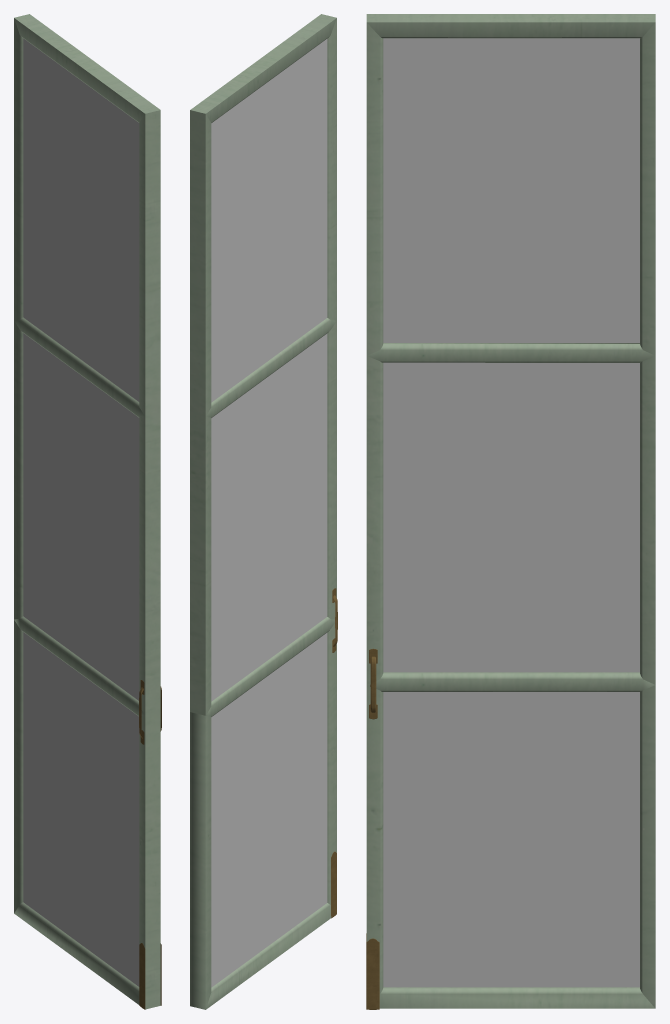
File: SM_WW25_Door_2.fbx
The picture shows the model from 3 angles, left to right: view 1: azimuth 30°, elevation 25°; view 2: azimuth 150°, elevation 25°; view 3: azimuth 270°, elevation 25°; orthographic projection. The views are drawn at different scales.
Visible parts, largest first — view 1: SM_WW25_Door_2; view 2: SM_WW25_Door_2; view 3: SM_WW25_Door_2.
Part boxes in pixels (left/top/right/bottom): SM_WW25_Door_2: left=14, top=14, right=161, bottom=1009; SM_WW25_Door_2: left=190, top=14, right=337, bottom=1009; SM_WW25_Door_2: left=366, top=14, right=655, bottom=1009.
Bounding box in the file's own units: 4.88 × 51.75 × 195.
3 materials, 2 textured.
